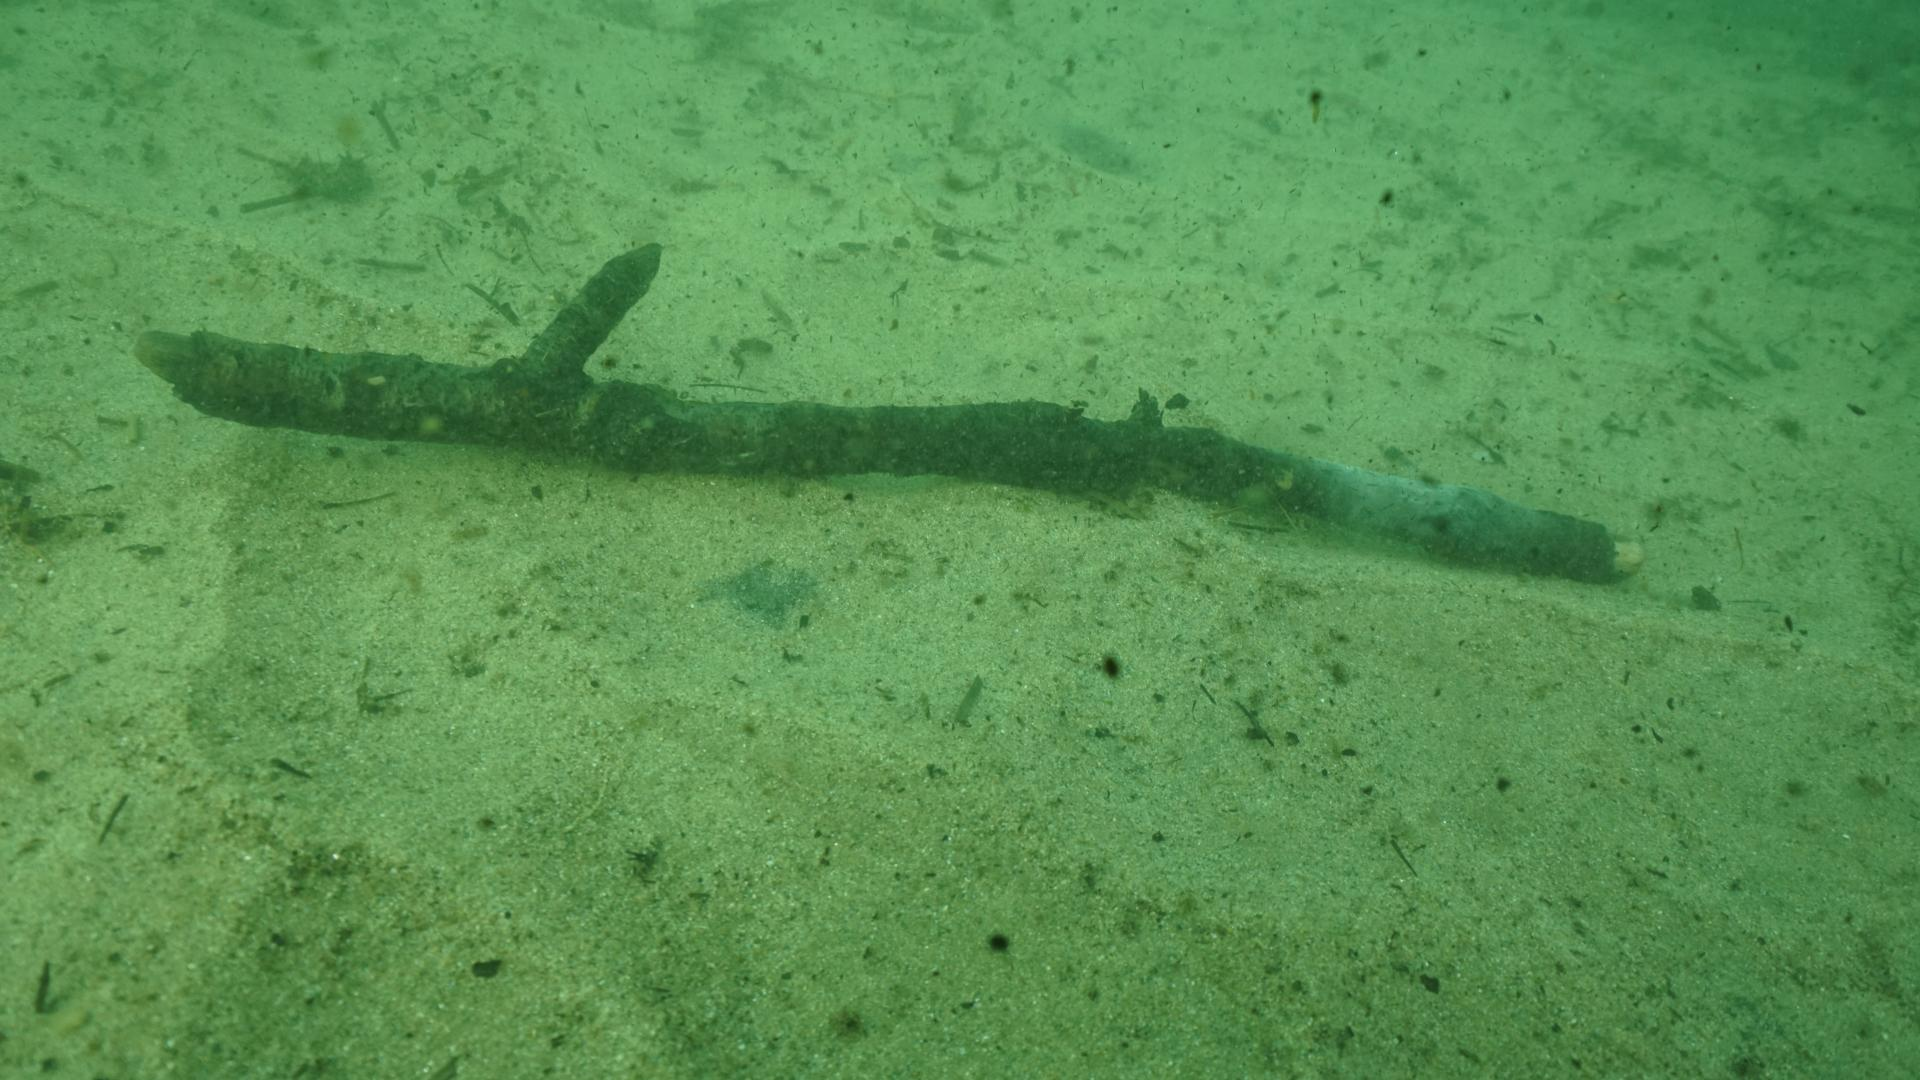wood: (131, 239, 1646, 588)
